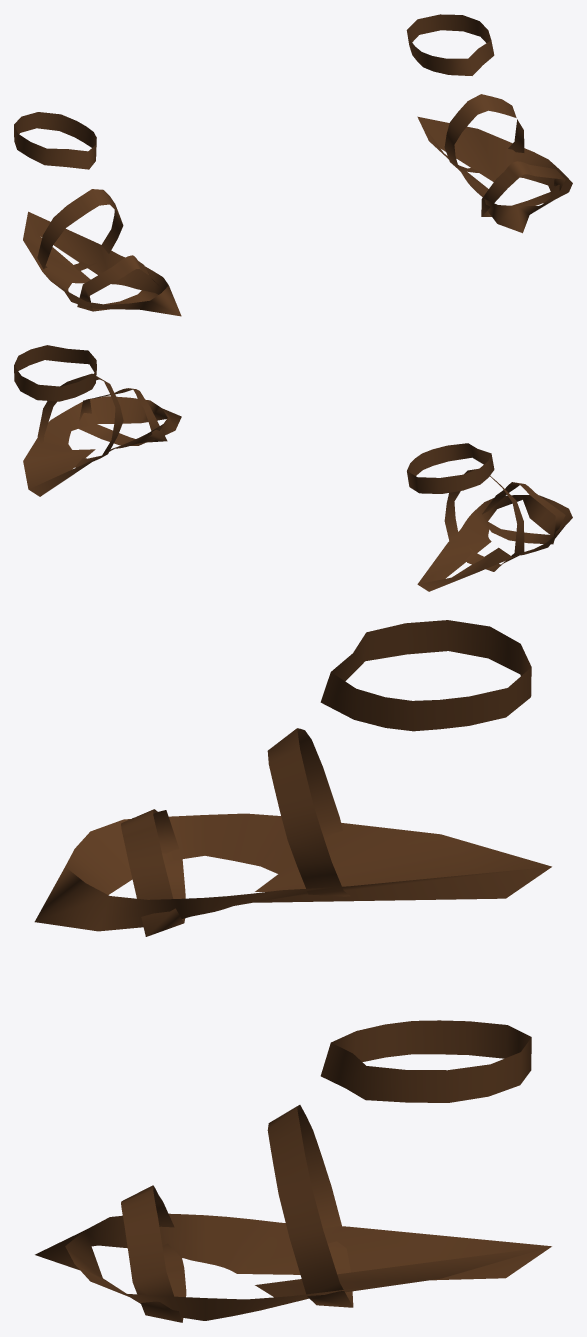
Rendered from sandals.glb.
The picture shows the model from 3 angles, top to bottom: view 1: azimuth 30°, elevation 25°; view 2: azimuth 150°, elevation 25°; view 3: azimuth 270°, elevation 25°; orthographic projection. The views are drawn at different scales.
Visible parts, largest first — view 1: sandals; view 2: sandals; view 3: sandals.
Boxes of the visible parts, x1,y1,x2,y2 form: sandals: [14, 14, 572, 316]; sandals: [14, 345, 572, 591]; sandals: [34, 620, 551, 1322].
Bounding box in the file's own units: 0.5214 × 0.1287 × 0.2349.
